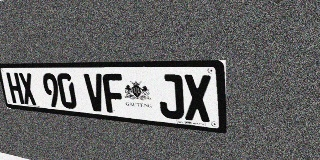0: (56, 73, 77, 109)
9: (41, 73, 62, 108)
F: (102, 74, 126, 114)
H: (6, 73, 24, 104)
J: (157, 74, 184, 120)
V: (83, 73, 106, 112)
X: (183, 74, 212, 123), (18, 73, 37, 105)
